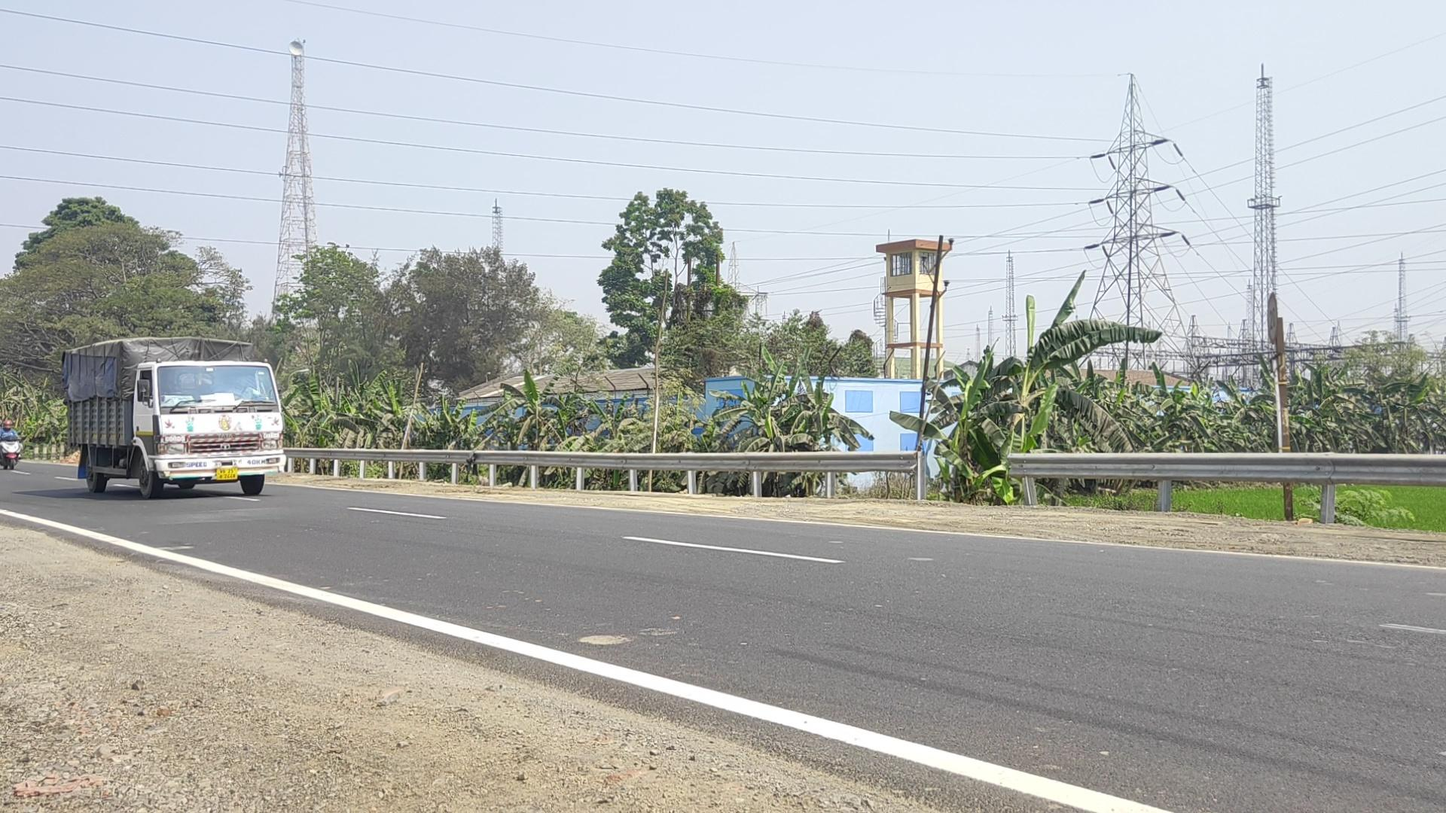bike: (1, 419, 24, 471)
truck: (63, 336, 283, 500)
